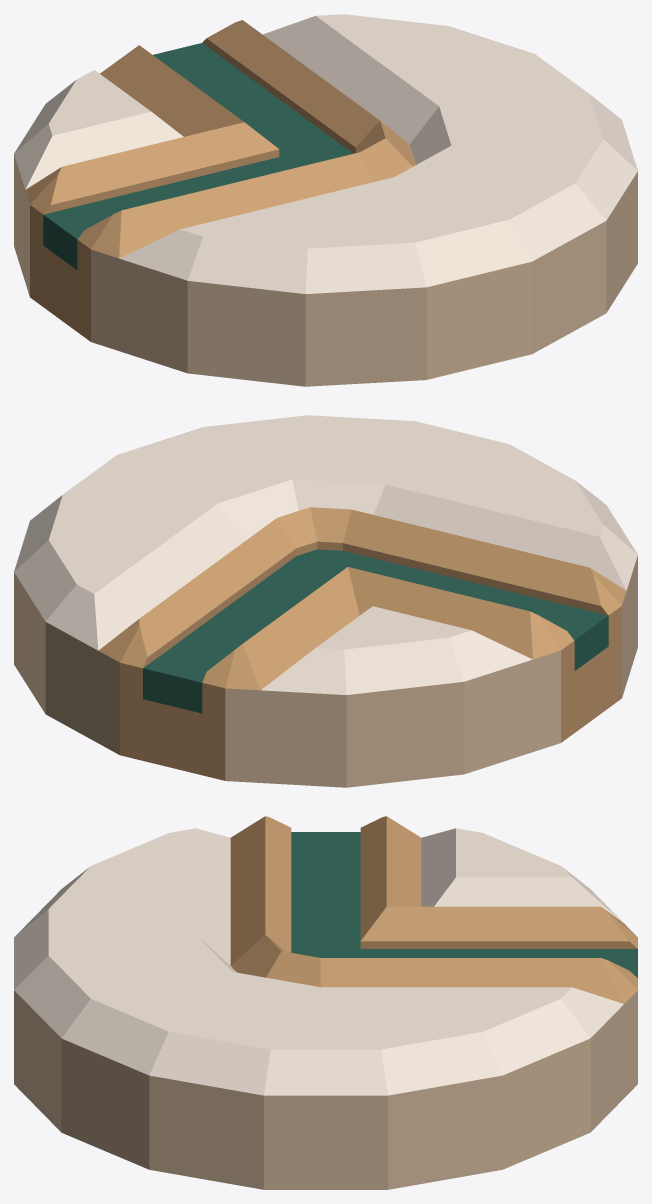
File: Puzzle_Floor_Conduit_Rotating_Platform_Corner.obj
3 renders of one model, top to bottom at view 1: azimuth 30°, elevation 25°; view 2: azimuth 150°, elevation 25°; view 3: azimuth 270°, elevation 25°, orthographic.
Parts seen in each view (by area): view 1: object2, object1; view 2: object2, object1; view 3: object2, object1.
Boxes of the visible parts, <box> form: object2: <box>14,14,637,386</box>; object1: <box>43,43,353,269</box>; object2: <box>14,415,637,787</box>; object1: <box>143,549,608,713</box>; object2: <box>14,816,637,1189</box>; object1: <box>291,832,637,977</box>.
Size of the model in its own units: 0.9 by 0.2 by 0.9.
